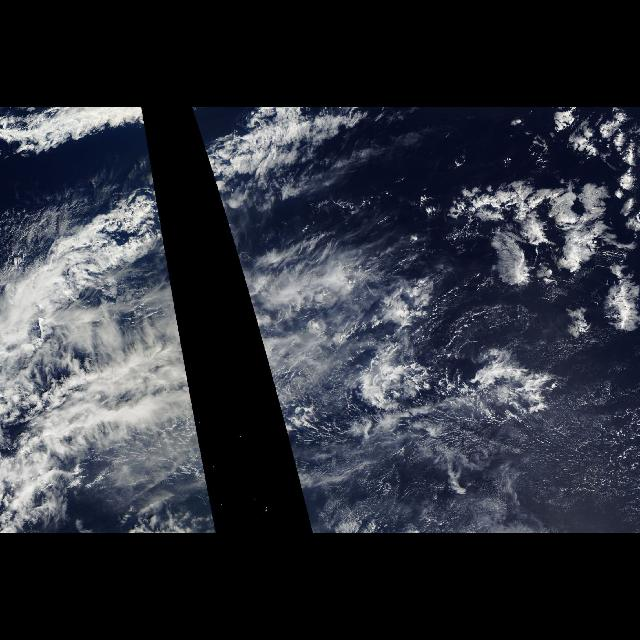Flower: (427, 109, 639, 375)
Gravel: (593, 408, 637, 518)
Sugar: (428, 384, 638, 514)
